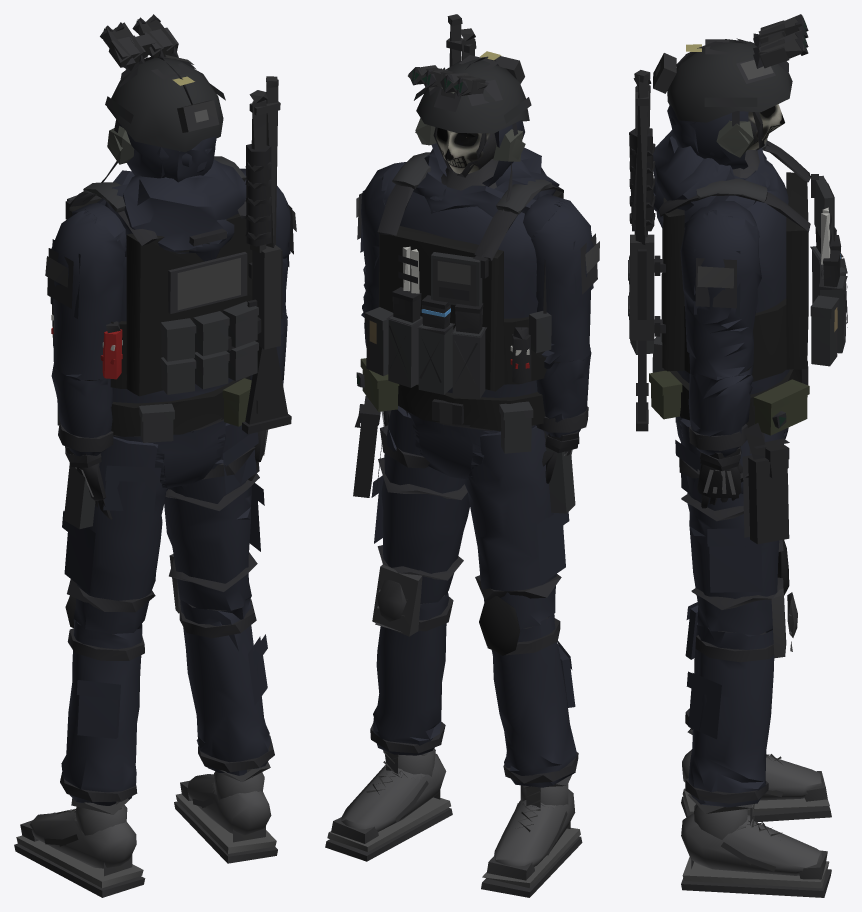
File: ghost.glb
3 views of the same model, side by side, from view 1: azimuth 30°, elevation 25°; view 2: azimuth 150°, elevation 25°; view 3: azimuth 270°, elevation 25° (orthographic). The views are drawn at different scales.
Visible parts, largest first — view 1: torso, head, leg_L, leg_R, shin_L, shin_R, arm_L, foot_L, pelvis, foot_R, forearm_L, arm_R (+1 smaller); view 2: torso, head, leg_L, leg_R, shin_L, shin_R, pelvis, foot_R, arm_L, foot_L, forearm_L, arm_R; view 3: torso, head, leg_R, shin_R, arm_R, foot_R, forearm_R, pelvis, foot_L, shin_L.
Part boxes in pixels (x1,y1,x2,y2): torso: [51, 76, 291, 434]; head: [83, 14, 246, 252]; leg_L: [62, 436, 168, 633]; leg_R: [164, 423, 264, 610]; shin_L: [60, 595, 144, 822]; shin_R: [169, 554, 274, 796]; arm_L: [45, 210, 125, 380]; foot_L: [14, 798, 145, 897]; pelvis: [57, 376, 251, 488]; foot_R: [174, 762, 277, 863]; forearm_L: [51, 363, 113, 519]; arm_R: [275, 186, 296, 334]; torso: [364, 14, 566, 427]; head: [408, 51, 559, 257]; leg_L: [463, 425, 575, 628]; leg_R: [353, 396, 469, 603]; shin_L: [479, 596, 578, 808]; shin_R: [370, 564, 453, 779]; pelvis: [356, 358, 545, 479]; foot_R: [325, 748, 452, 861]; arm_L: [531, 199, 599, 364]; foot_L: [481, 775, 582, 897]; forearm_L: [536, 351, 591, 483]; arm_R: [356, 163, 397, 312]; torso: [628, 70, 847, 431]; head: [653, 14, 811, 226]; leg_R: [675, 418, 789, 636]; shin_R: [685, 588, 797, 830]; arm_R: [680, 211, 761, 380]; foot_R: [681, 793, 831, 897]; forearm_R: [688, 365, 753, 508]; pelvis: [649, 333, 809, 445]; foot_L: [681, 728, 831, 822]; shin_L: [685, 539, 789, 729].
Bounding box in the file's own units: 0.5778 × 1.9 × 0.4606.
Materials: 2 (1 with a texture image).
